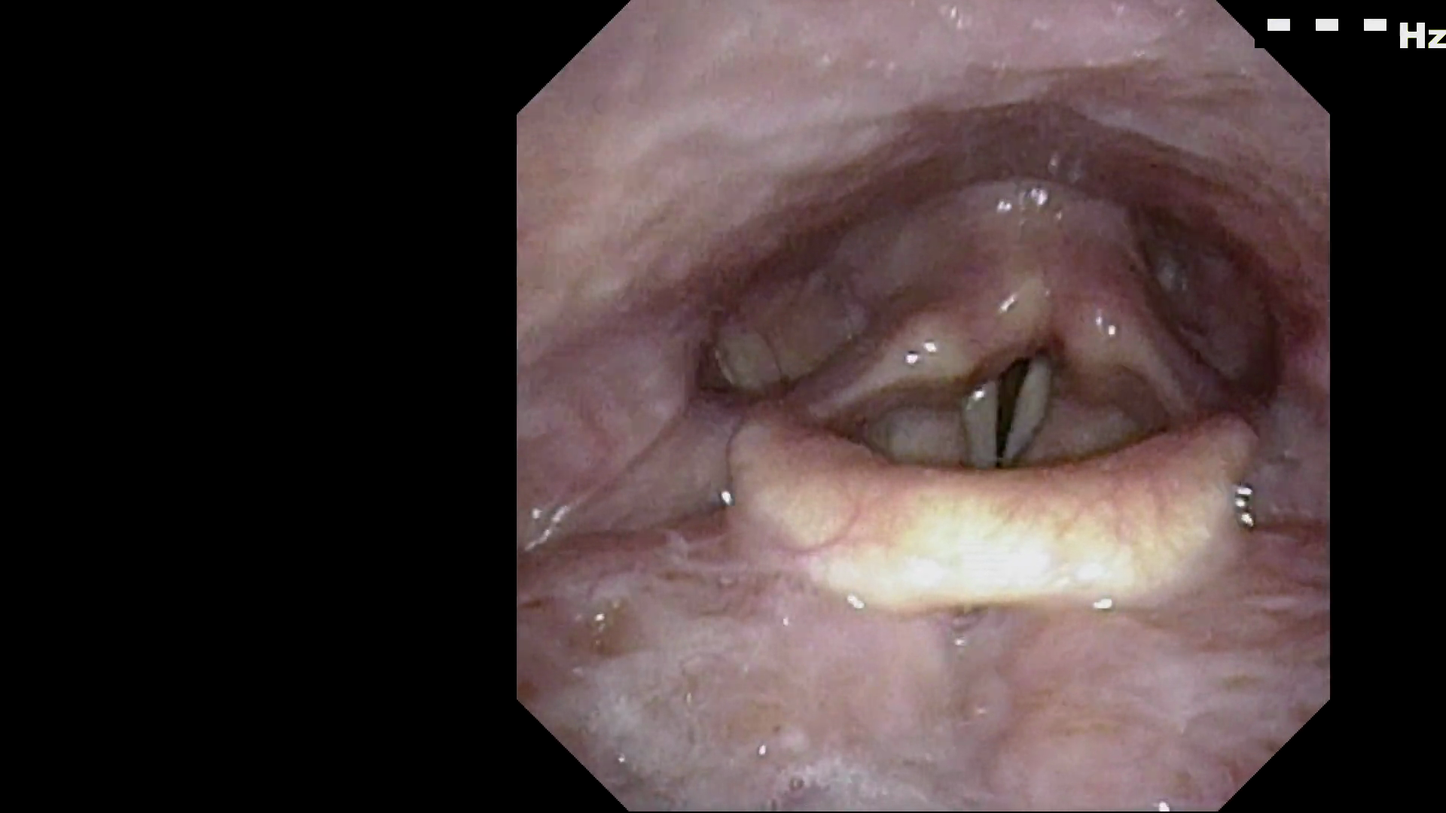epiglottis: (726, 431, 1250, 626)
trachea: (920, 292, 1095, 511)
